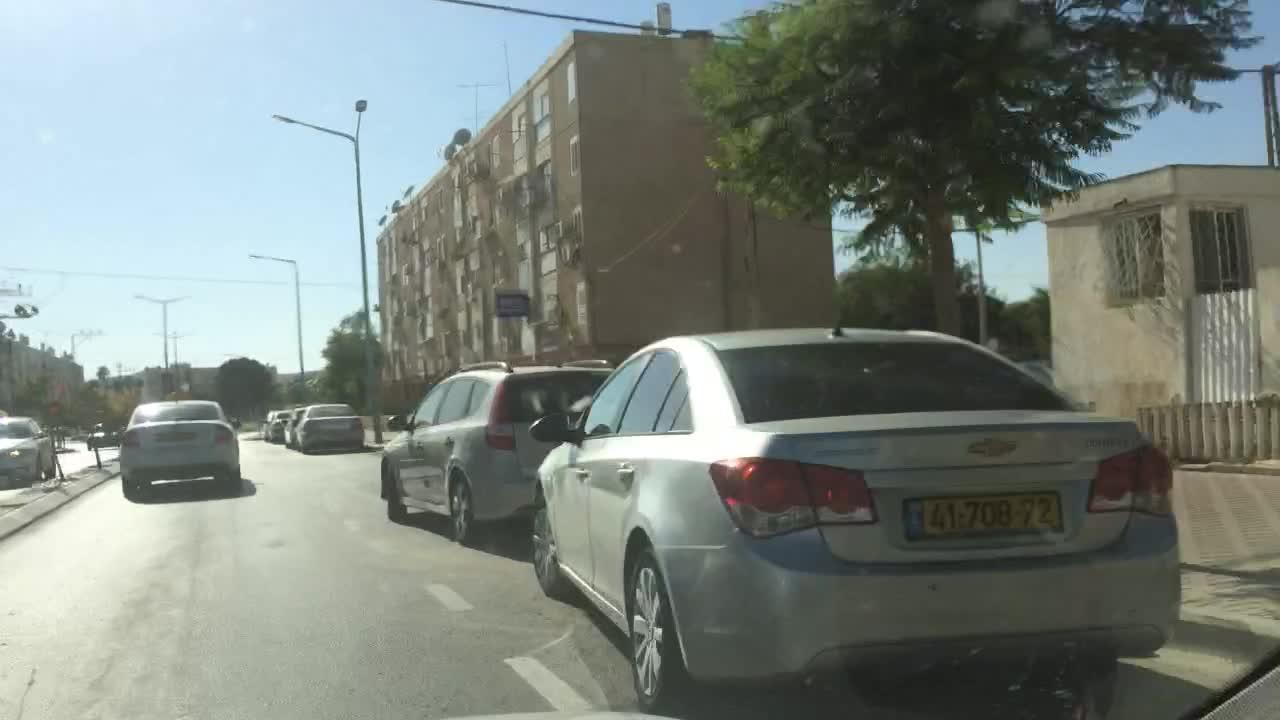chevrolet: (946, 430, 1044, 466)
